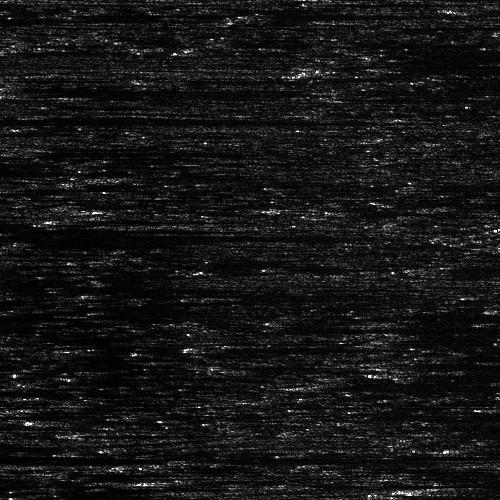object: (87, 171, 160, 180), (429, 4, 500, 13), (0, 87, 57, 96), (0, 43, 36, 56), (44, 216, 107, 223), (463, 26, 500, 37), (0, 113, 29, 126), (6, 237, 47, 246), (0, 145, 36, 154), (330, 75, 341, 102), (222, 341, 253, 350), (401, 264, 454, 269), (0, 221, 19, 230), (373, 58, 384, 73), (287, 385, 318, 388), (65, 432, 86, 435), (444, 486, 465, 489)
shadow: (0, 226, 286, 245), (0, 113, 311, 126), (335, 75, 470, 102), (0, 11, 178, 24), (16, 87, 261, 96), (379, 58, 500, 73), (16, 145, 201, 154), (16, 43, 134, 56), (124, 171, 253, 180), (238, 341, 367, 350), (27, 237, 150, 246), (76, 216, 202, 223), (0, 450, 33, 463), (303, 385, 432, 388), (0, 167, 42, 176), (0, 219, 70, 224), (428, 264, 496, 269), (0, 221, 27, 230), (0, 442, 34, 449), (76, 432, 136, 435), (454, 486, 500, 489)
